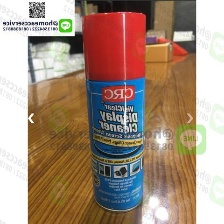aerosol_cans: (78, 7, 149, 215)
